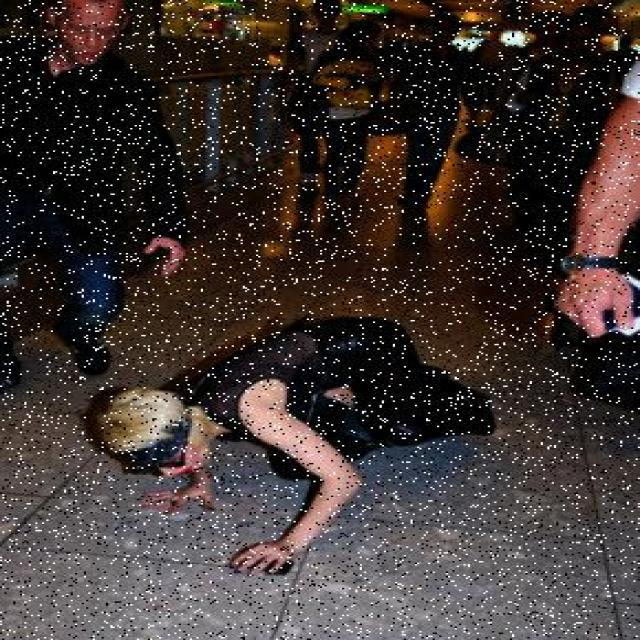fall: (110, 310, 474, 546)
